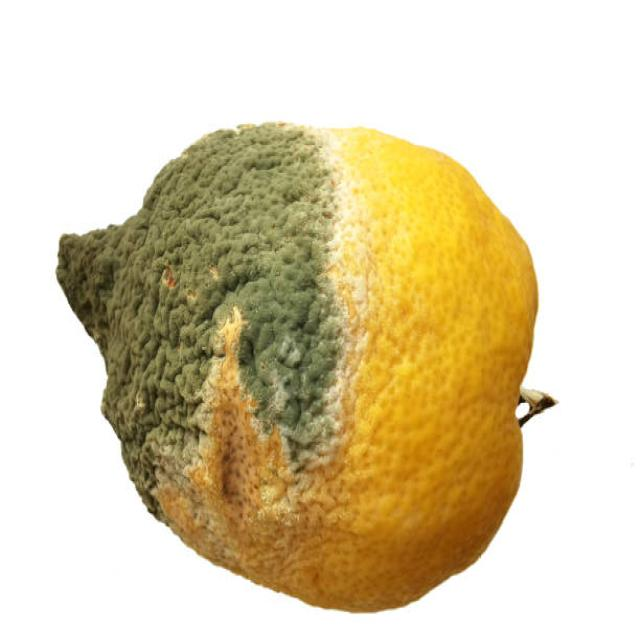Rotten: (54, 117, 557, 612)
